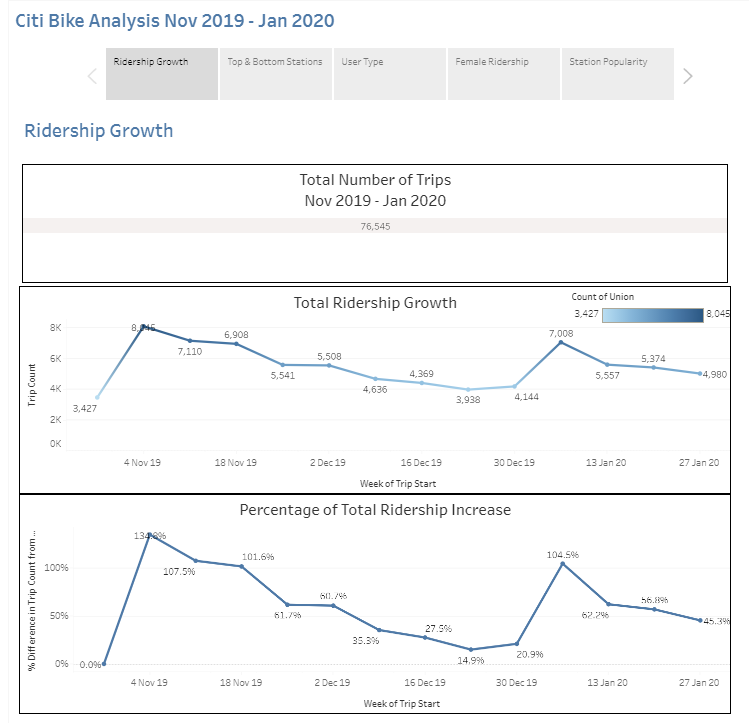

What the dashboard file says about the page in this screenshot:
{"tool":"tableau","page":{"name":"Ridership Growth","canvas":[1000,1000],"units":"permille","ordinal":1},"visuals":[{"type":"worksheet","box":[0,0,1000,1000]},{"type":"worksheet","param":"vert","box":[5.7,10.5,988.7,979.1]},{"type":"worksheet","box":[5.7,10.5,988.7,75.9]},{"type":"worksheet","title":"Total Trips","mark":"Automatic","box":[5.1,86.4,949.7,205.5]},{"type":"worksheet","box":[5.7,86.4,988.7,903.1]},{"type":"worksheet","title":"Total Ridership Growth","mark":"Automatic","rows":["_57B5E63297B8400FB06C19BAD6663A0C"],"cols":["starttime"],"box":[5,291.9,949.7,340.3]},{"type":"worksheet","title":"Total Ridership Growth","mark":"Automatic","rows":["_57B5E63297B8400FB06C19BAD6663A0C"],"cols":["starttime"],"param":"[federated.0e4tk9l00upwaq14i1hmy0mif4b7].[__tableau_internal_object_id__].[cnt:_","box":[742.2,297.1,216.4,112.6]},{"type":"worksheet","title":"Total Ridership Growth - Percentage","mark":"Automatic","cols":["starttime"],"box":[5,632.2,949.7,361.3]}]}

Visuals, with their boxes on the dashboard's canvas, which has no fixed pixel size, in thousandths of its width and height (x1, y1, x2, y2). These are canvas units, not pixel positions in the 749x723 screenshot, which may show the page scaled, cropped or inside an application window:
worksheet: 0/0/1000/1000
worksheet: 6/10/994/990
worksheet: 6/10/994/86
"Total Trips" worksheet: 5/86/955/292
worksheet: 6/86/994/990
"Total Ridership Growth" worksheet: 5/292/955/632
"Total Ridership Growth" worksheet: 742/297/959/410
"Total Ridership Growth - Percentage" worksheet: 5/632/955/994
